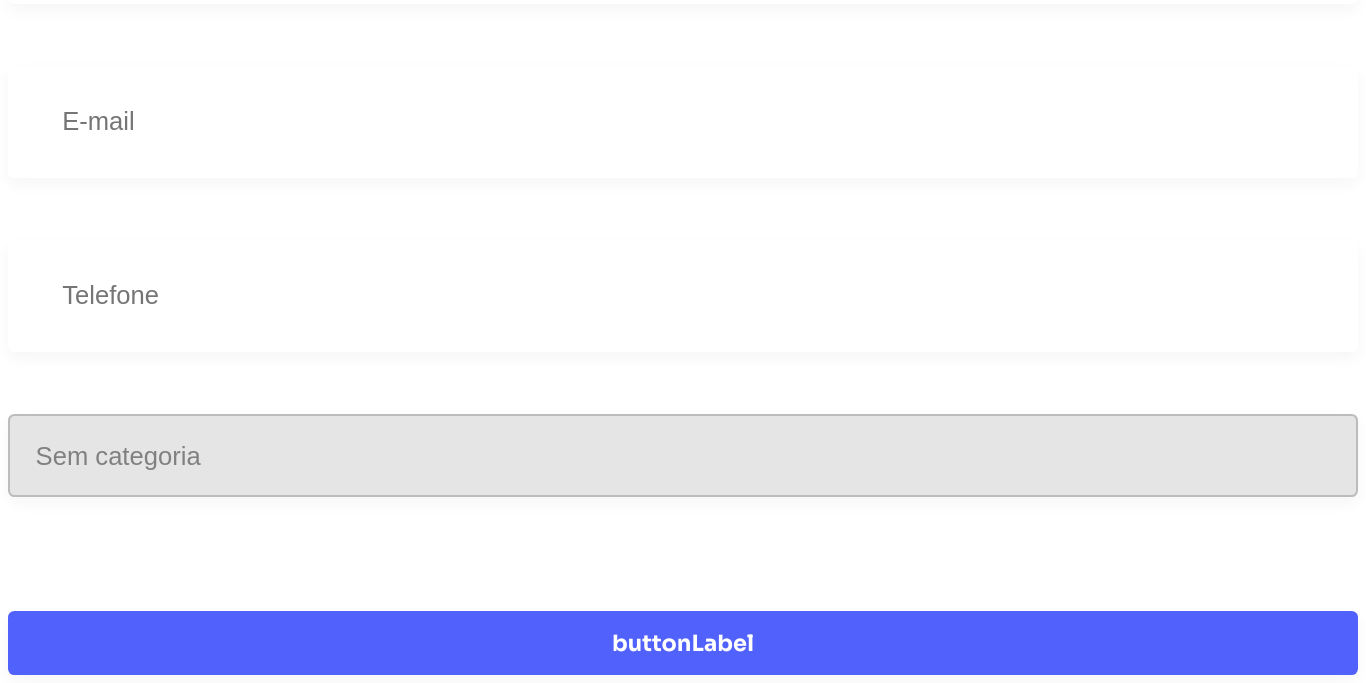
it: <ContactForm/> › render ContactForm and try to submit with a invalid form
(page scrolled)
Click the button with aria-label "confirm" at (683, 643), box [8,611,1358,675]
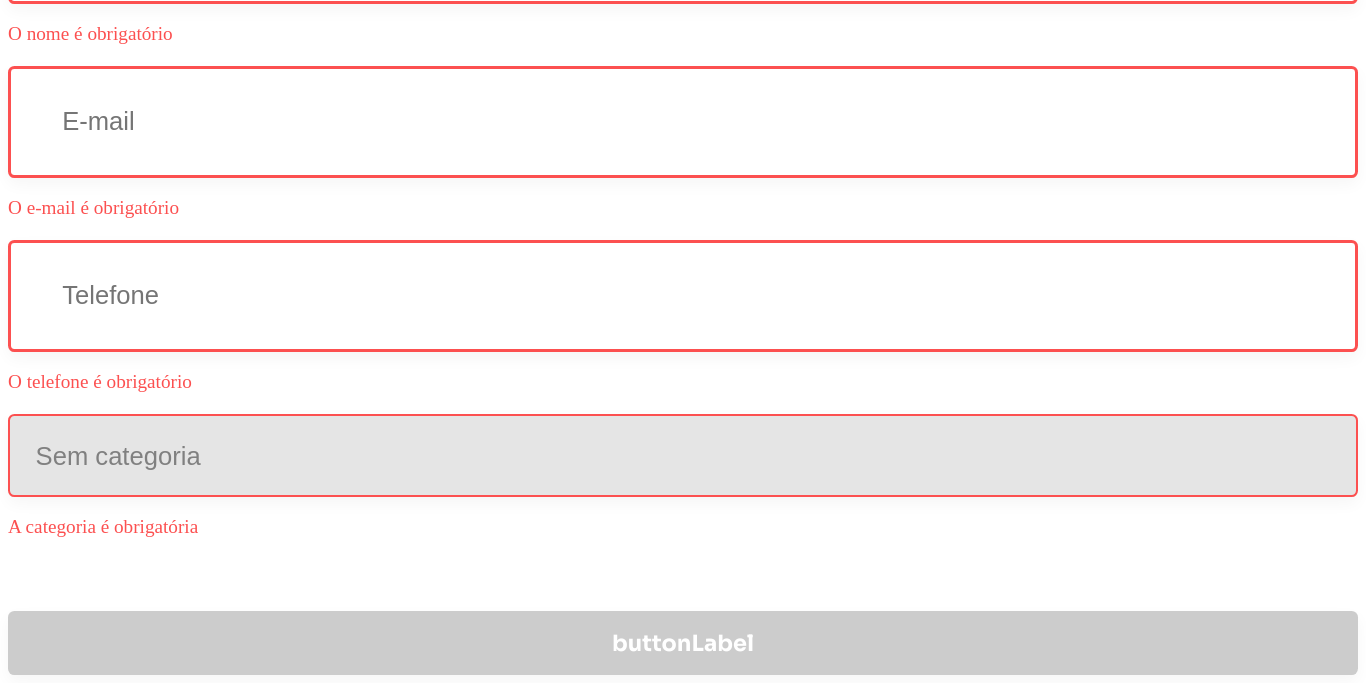
Check: the text "O nome é obrigatório" is shown, box [8,23,173,44]
Check: the text "O e-mail é obrigatório" is shown, box [8,197,179,218]
Check: the text "O telefone é obrigatório" is shown, box [8,371,192,392]
